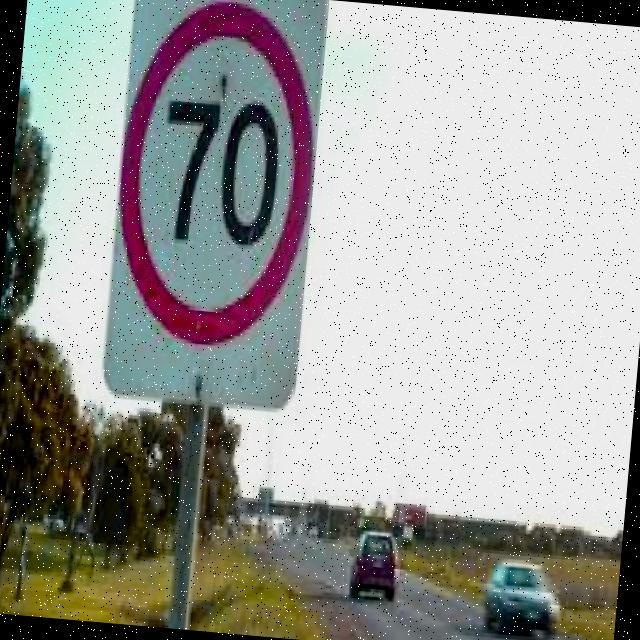Ograniczenie predkosci do 70: (109, 0, 326, 356)
